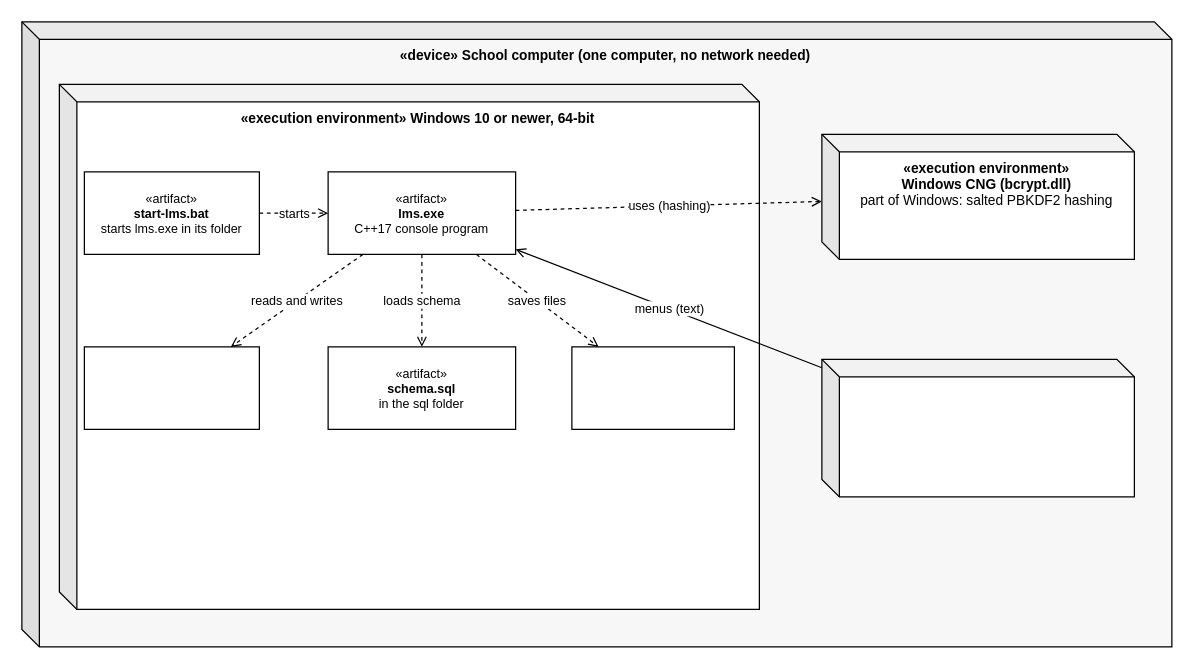
This 1194x669 diagram has some shape labels left out. The box of each missing label's shape, as (x1, y1, x2, y2) in pixels:
«artifact» lms.db SQLite database file: (83, 346, 259, 429)
«artifact» submissions\ submitted work: (571, 346, 734, 429)
«device» Keyboard and screen All four roles use the console in turn: (821, 358, 1134, 497)
